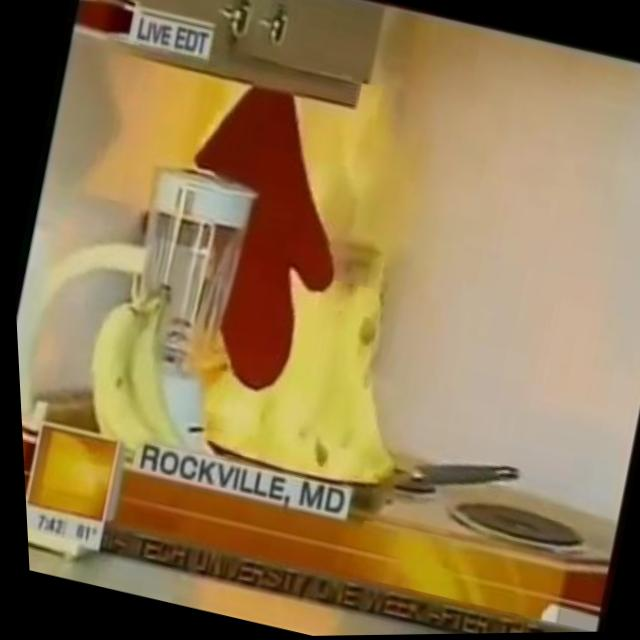fire: (140, 59, 481, 499)
